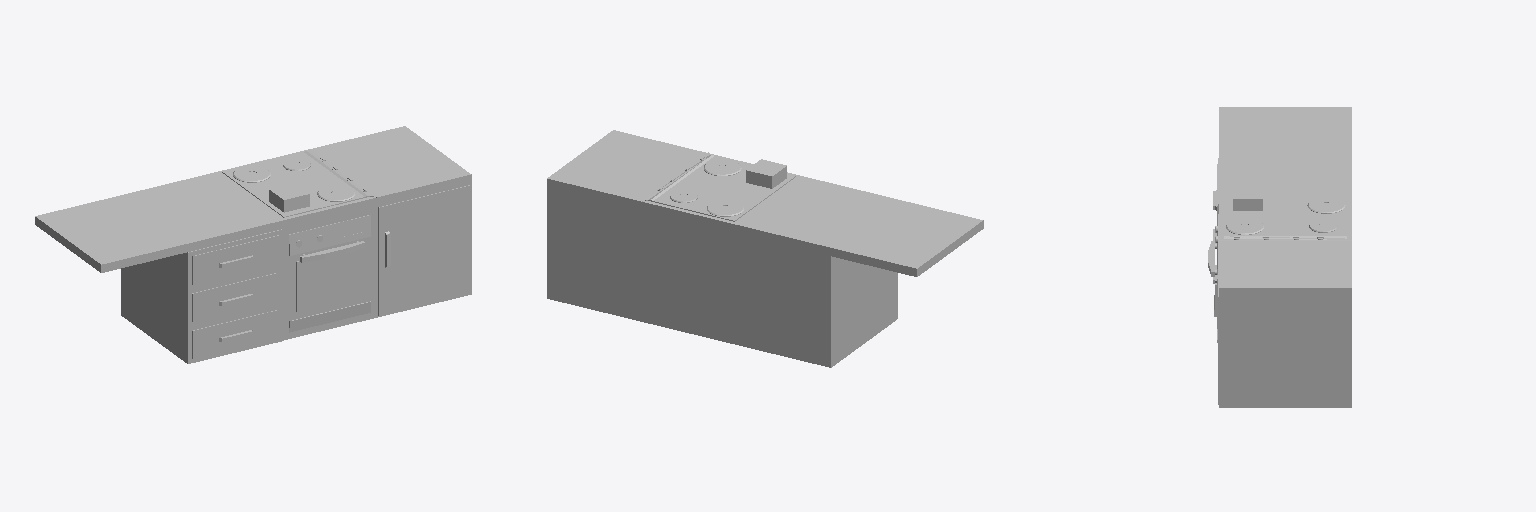
Rendered from fired_stoev.obj.
3 views of the same model, side by side, from view 1: azimuth 30°, elevation 25°; view 2: azimuth 150°, elevation 25°; view 3: azimuth 270°, elevation 25° (orthographic).
Parts seen in each view (by area): view 1: fkc, Smoke_Domain.001_Cube.002; view 2: fkc, Smoke_Domain.001_Cube.002; view 3: fkc, Smoke_Domain.001_Cube.002.
Boxes of the visible parts, box(x1,y1,x2,y2) form: fkc: box(35, 126, 471, 363); Smoke_Domain.001_Cube.002: box(269, 183, 309, 212); fkc: box(547, 130, 983, 367); Smoke_Domain.001_Cube.002: box(746, 159, 786, 188); fkc: box(1208, 107, 1351, 407); Smoke_Domain.001_Cube.002: box(1233, 186, 1262, 210).
Bounding box in the file's own units: 87.27 × 32.46 × 29.34.